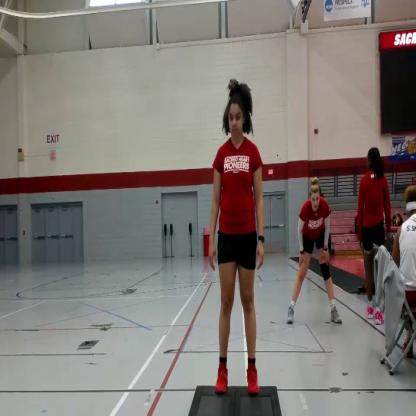lateral_flexion_normal: (206, 78, 266, 397)
stance_width_normal: (210, 136, 265, 394)
